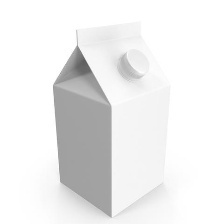carton: (47, 17, 175, 216)
